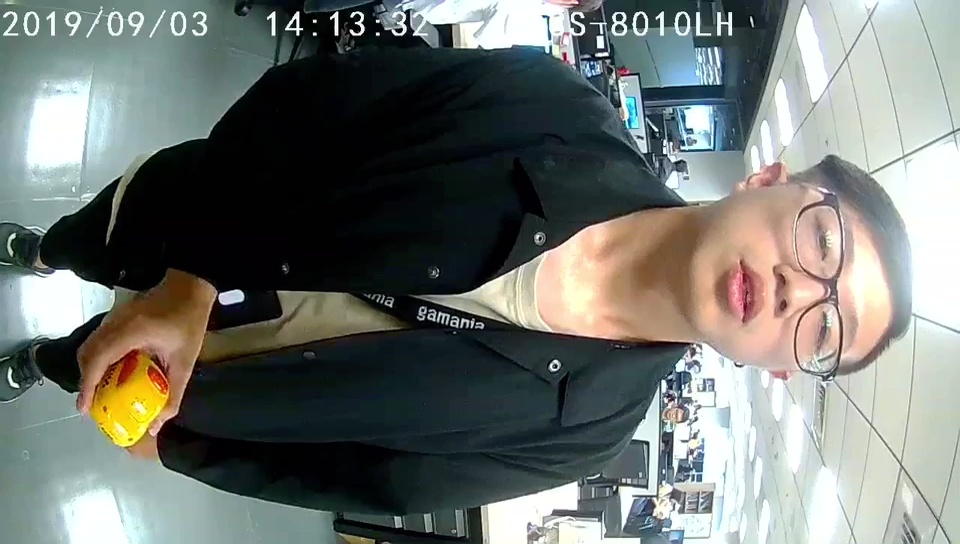car: (92, 351, 170, 447)
